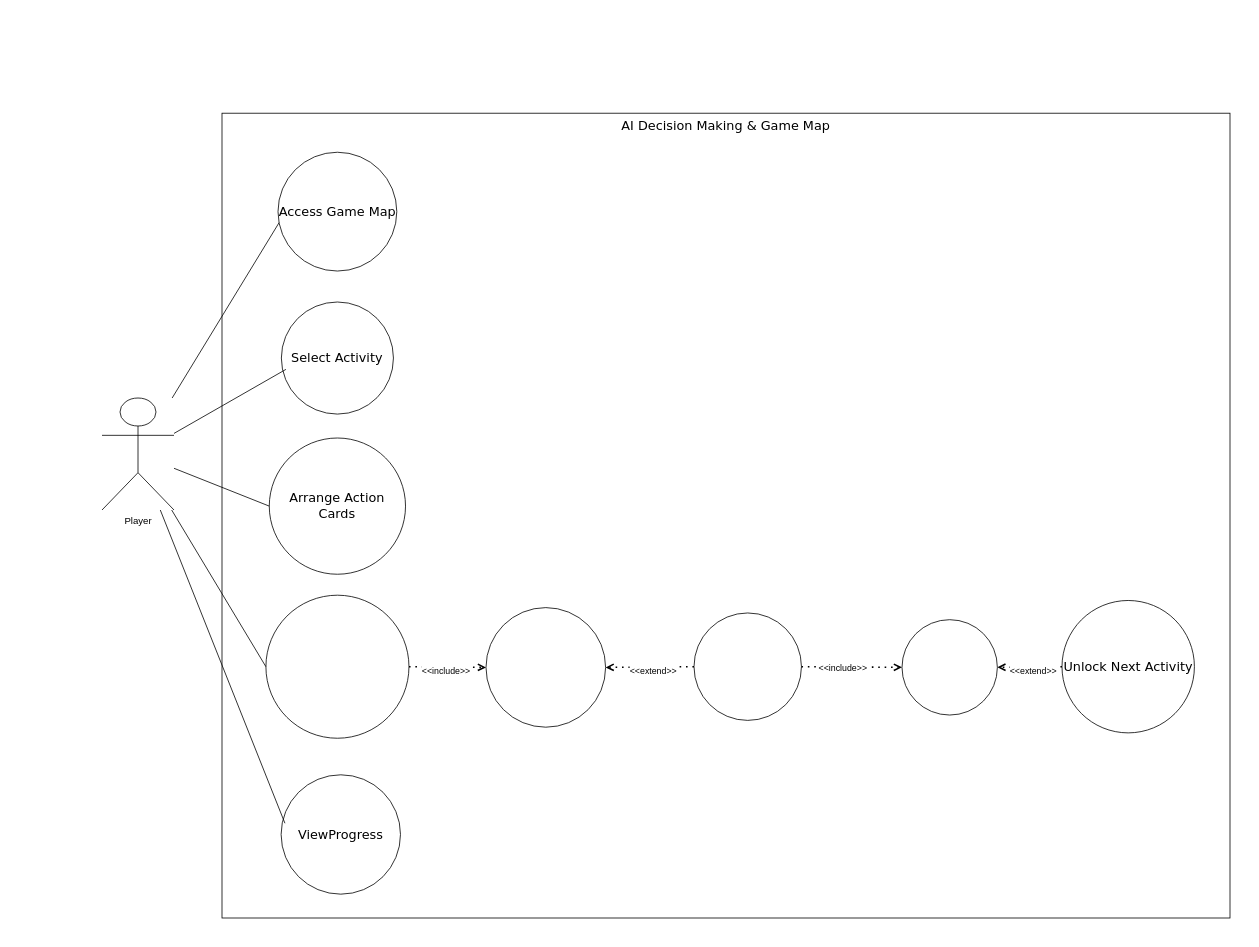
This 1259x947 diagram has some shape labels left out. Here are the shapes that lost their labels. From the top down, the centre of each, then its label:
At point (337, 666): "Execute Robot Actions".
At point (545, 667): "Receive Feedback".
At point (747, 666): "Complete Level".
At point (949, 667): "Save Progress".
